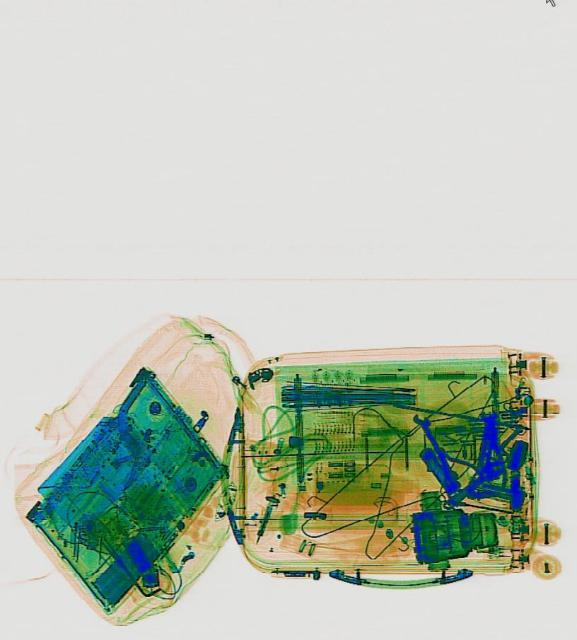Wrench: (410, 411, 462, 491)
